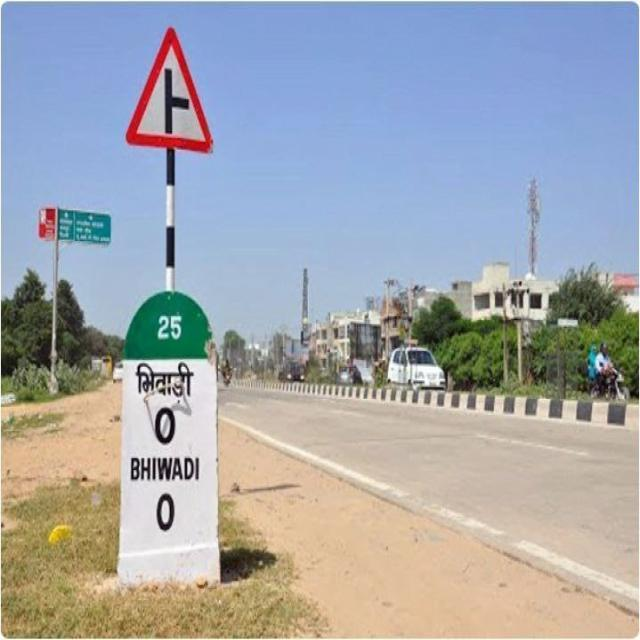side road right: (124, 26, 214, 154)
